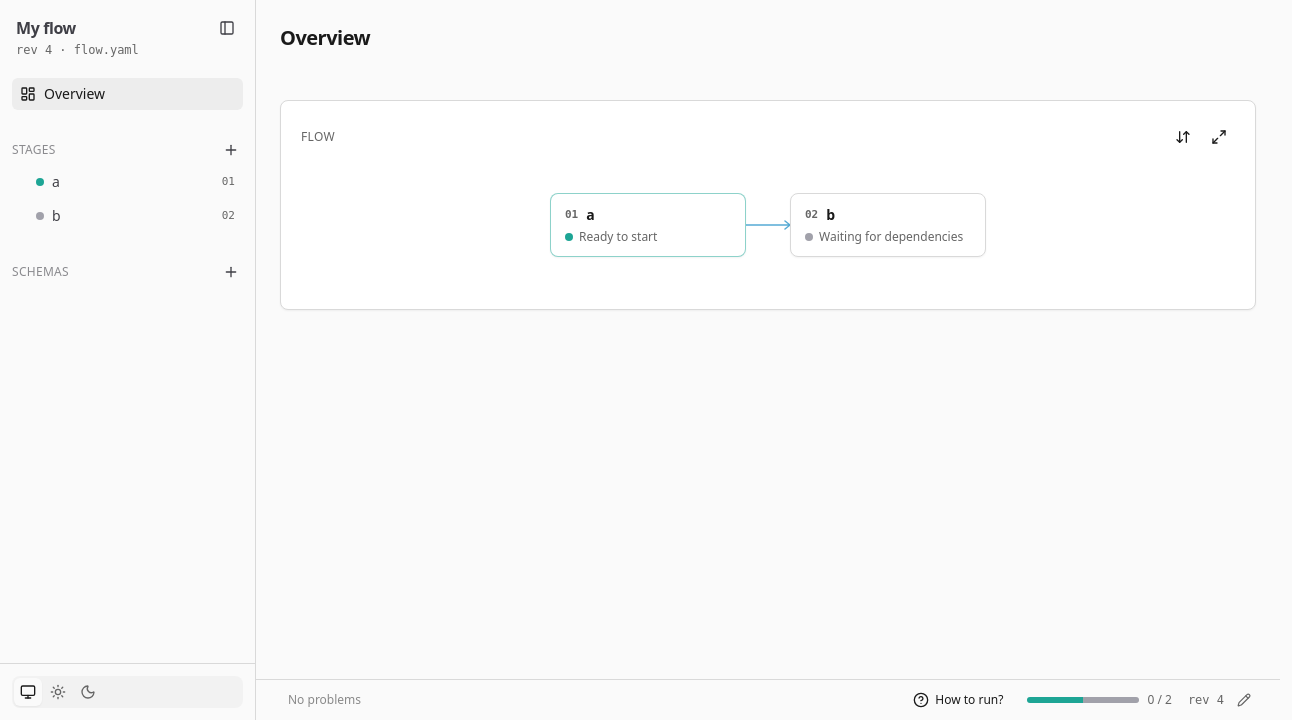
Test: revision badge › override_rejects_-1
The width and height of the screenshot is (1292, 720).
Click the button named "Edit revision". click: (1244, 700)
box: [1232,688,1256,712]
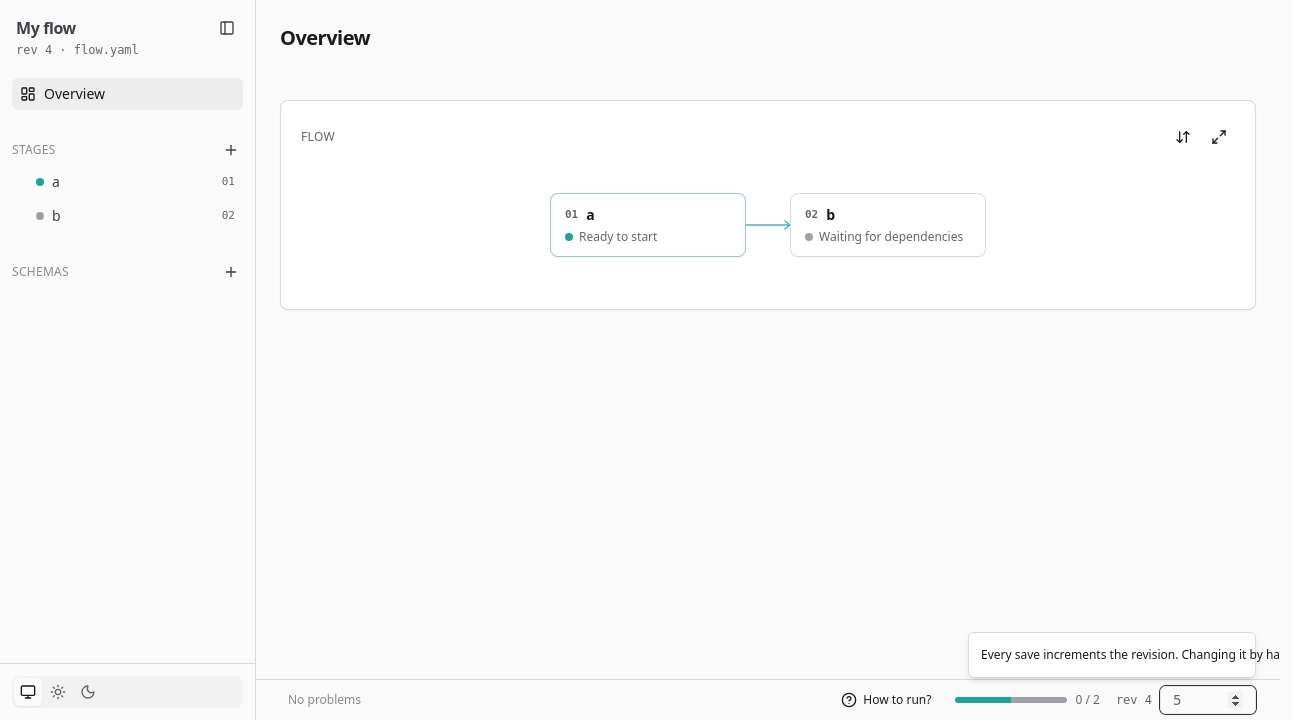
Replace the text in the number field named "Revision" with "-1". click: (1208, 700)
box: [1160,686,1256,714]
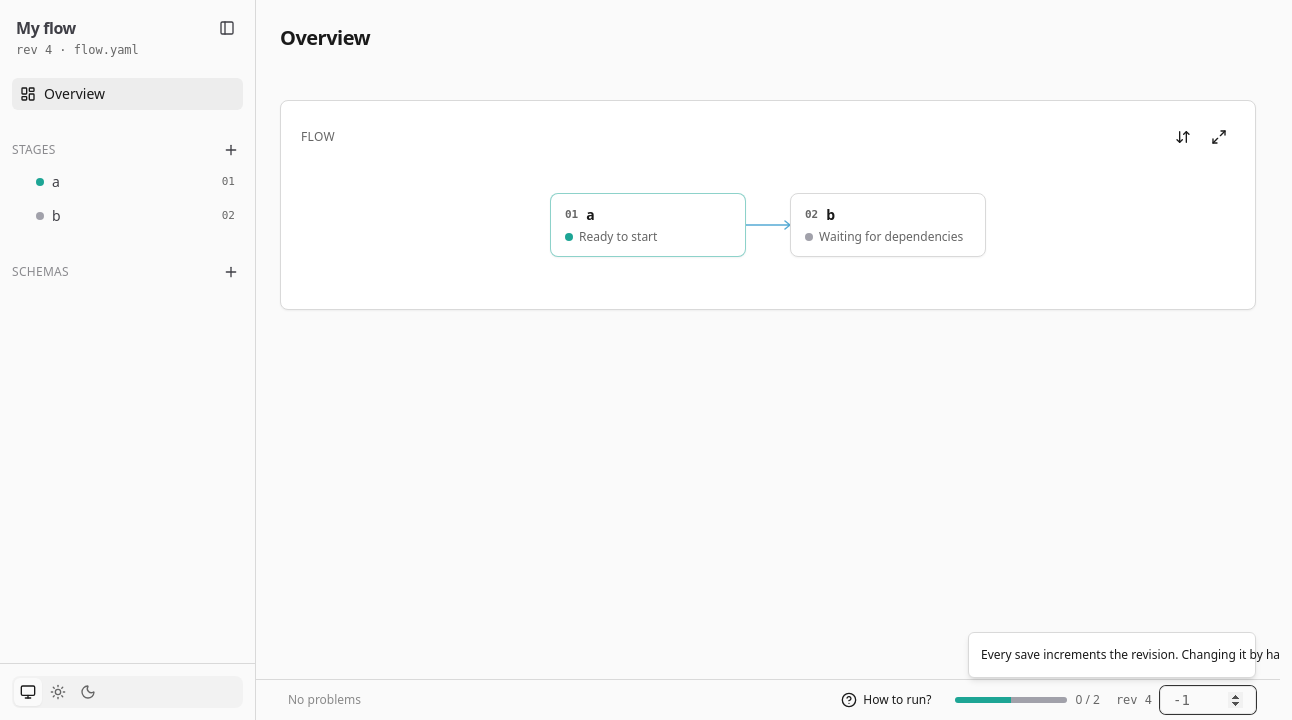
Press Enter in the number field named "Revision", box [1160,686,1256,714]
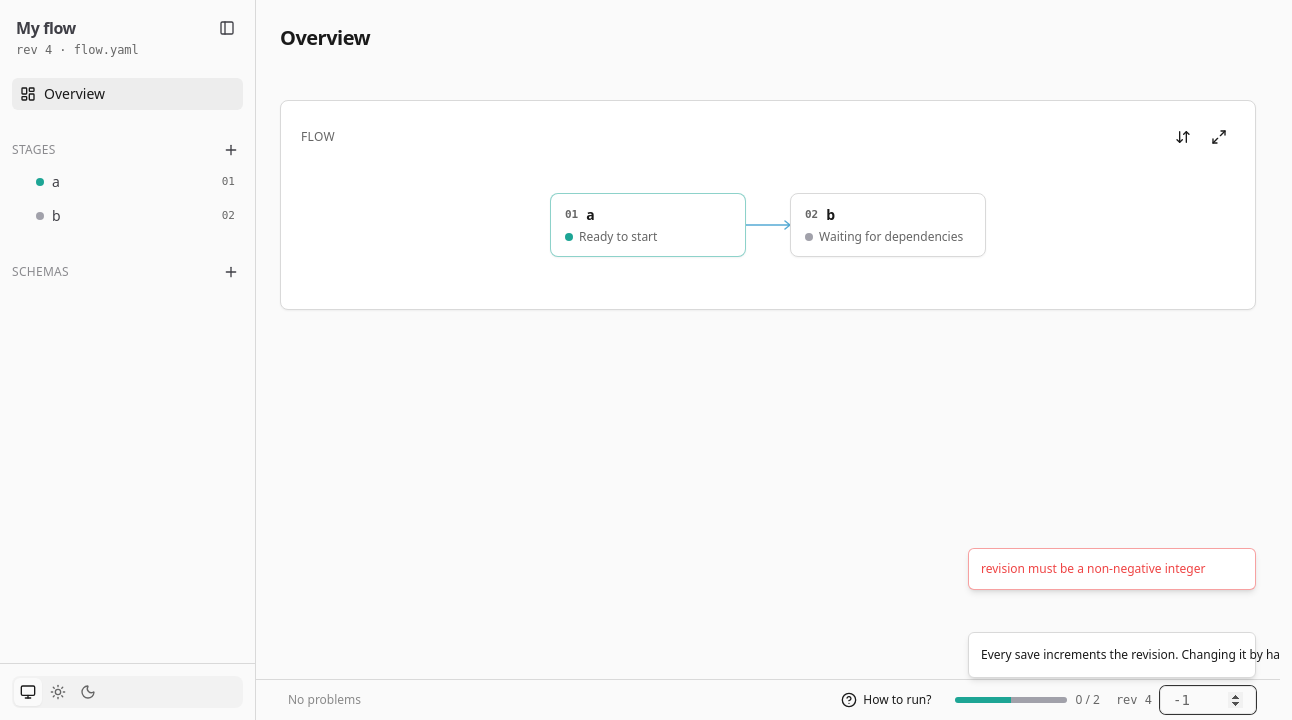
Now the message reads "revision must be a non-negative integer", box [981,560,1205,577]
